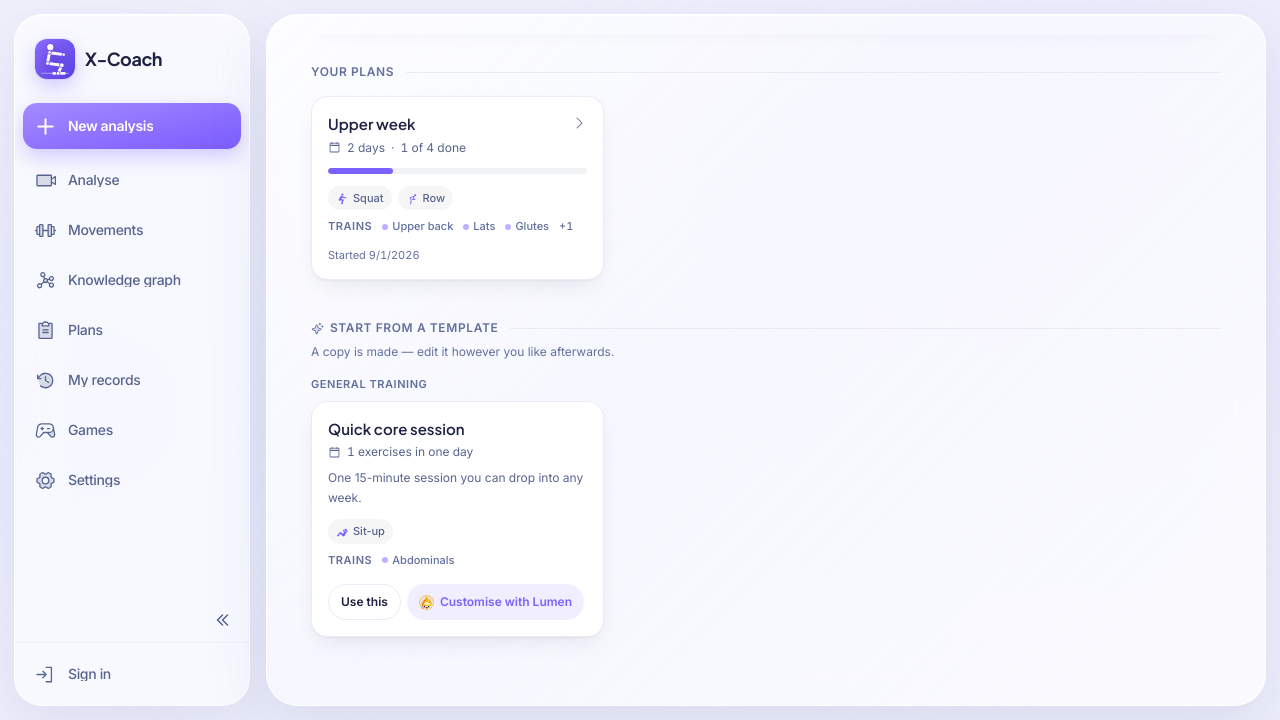
Test: Plans — handing a template to Lumen › reports a failed create instead of navigating
(page scrolled)
Click the button "Customise with Lumen": click(495, 602) [407, 584, 584, 620]
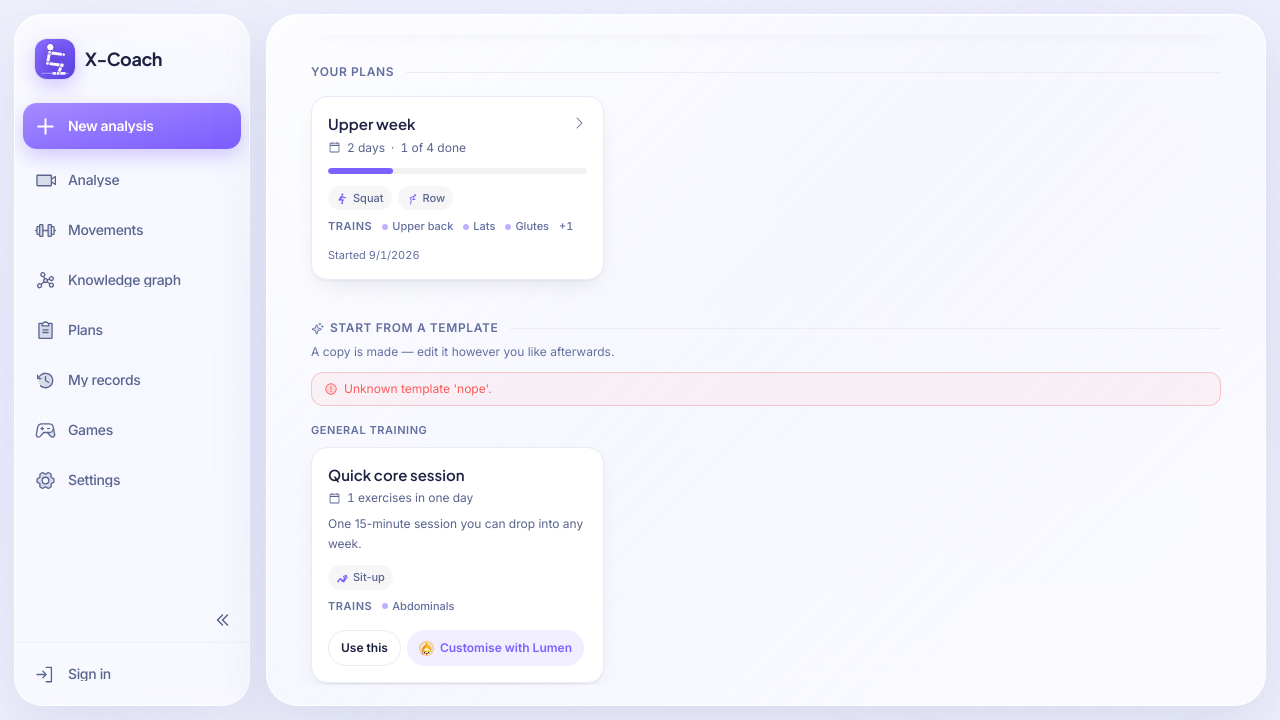
Check: the text "Unknown template 'nope'." is shown, box [311, 372, 1221, 406]
